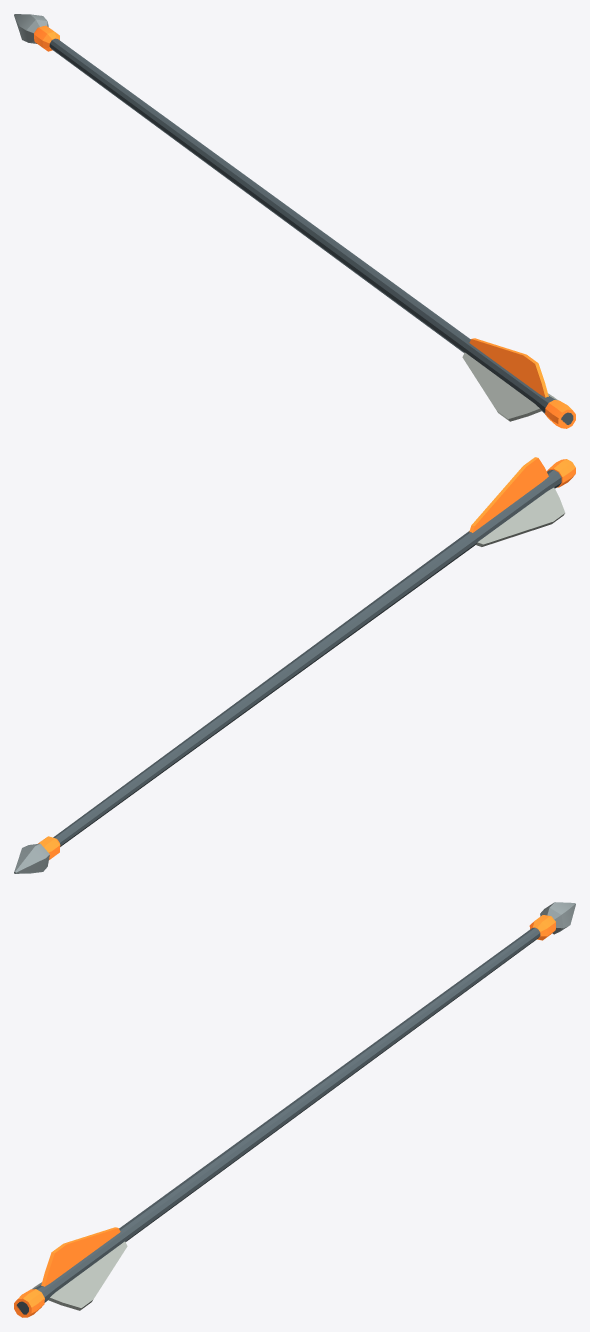
Rendered from FlightArrow.glb.
The picture shows the model from 3 angles, top to bottom: view 1: azimuth 30°, elevation 25°; view 2: azimuth 150°, elevation 25°; view 3: azimuth 330°, elevation 25°; orthographic projection.
Visible parts, largest first — view 1: FlightArrow; view 2: FlightArrow; view 3: FlightArrow.
Boxes of the visible parts, box(x1,y1,x2,y2) form: FlightArrow: box(14, 14, 575, 428); FlightArrow: box(14, 457, 575, 873); FlightArrow: box(14, 902, 575, 1317).
Size of the model in its own units: 0.0303 by 0.0263 by 0.51.
